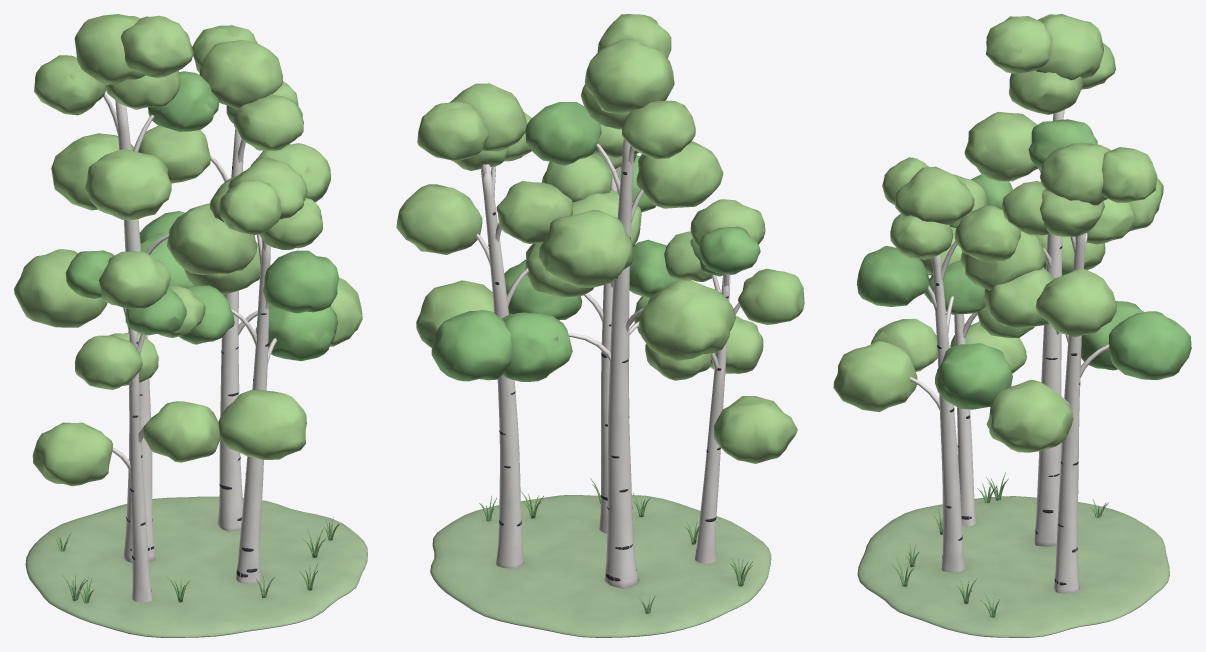
File: grab3d-birch-grove.glb
The picture shows the model from 3 angles, left to right: view 1: azimuth 30°, elevation 25°; view 2: azimuth 150°, elevation 25°; view 3: azimuth 270°, elevation 25°; orthographic projection. The views are drawn at different scales.
Visible parts, largest first — view 1: birch-grove_body; view 2: birch-grove_body; view 3: birch-grove_body.
Boxes of the visible parts, <box> form: birch-grove_body: <box>14,14,367,637</box>; birch-grove_body: <box>396,14,804,637</box>; birch-grove_body: <box>833,14,1191,637</box>.
Bounding box in the file's own units: 4.32 × 6.73 × 4.12.
Materials: 2 (1 with a texture image).
